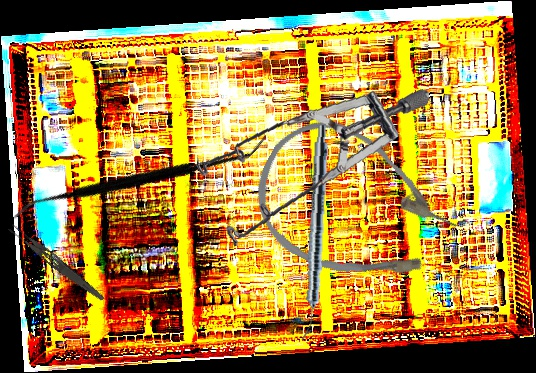Cannula: (234, 101, 475, 316)
Dressing Forceps: (5, 221, 109, 304)
Handpiece: (299, 124, 331, 341)
Spatula Surgical: (11, 47, 269, 308)
Speculum: (188, 66, 430, 265)
